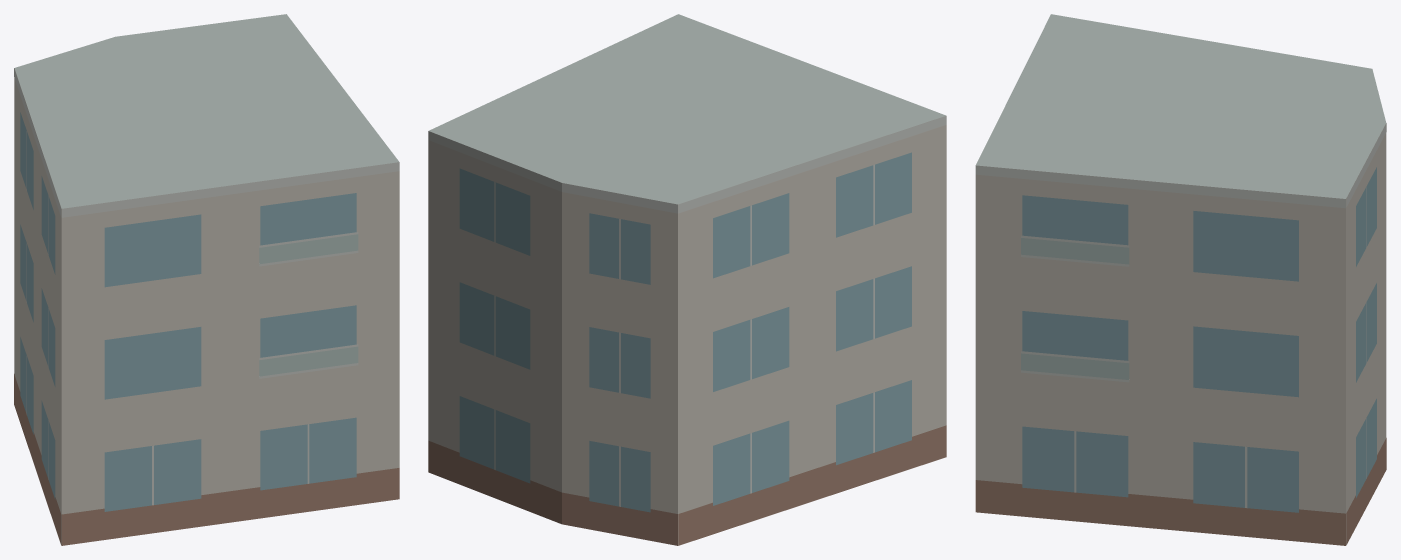
File: survey-upis-32937371.glb
3 renders of one model, left to right at view 1: azimuth 30°, elevation 25°; view 2: azimuth 150°, elevation 25°; view 3: azimuth 270°, elevation 25°, orthographic. The views are drawn at different scales.
Visible parts, largest first — view 1: survey-upis-32937371.tmp; view 2: survey-upis-32937371.tmp; view 3: survey-upis-32937371.tmp.
Boxes of the visible parts, left/top/right/bottom form: survey-upis-32937371.tmp: left=14, top=14, right=399, bottom=545; survey-upis-32937371.tmp: left=428, top=14, right=946, bottom=545; survey-upis-32937371.tmp: left=975, top=14, right=1386, bottom=545.
Bounding box in the file's own units: 10.48 × 9.15 × 9.83.
